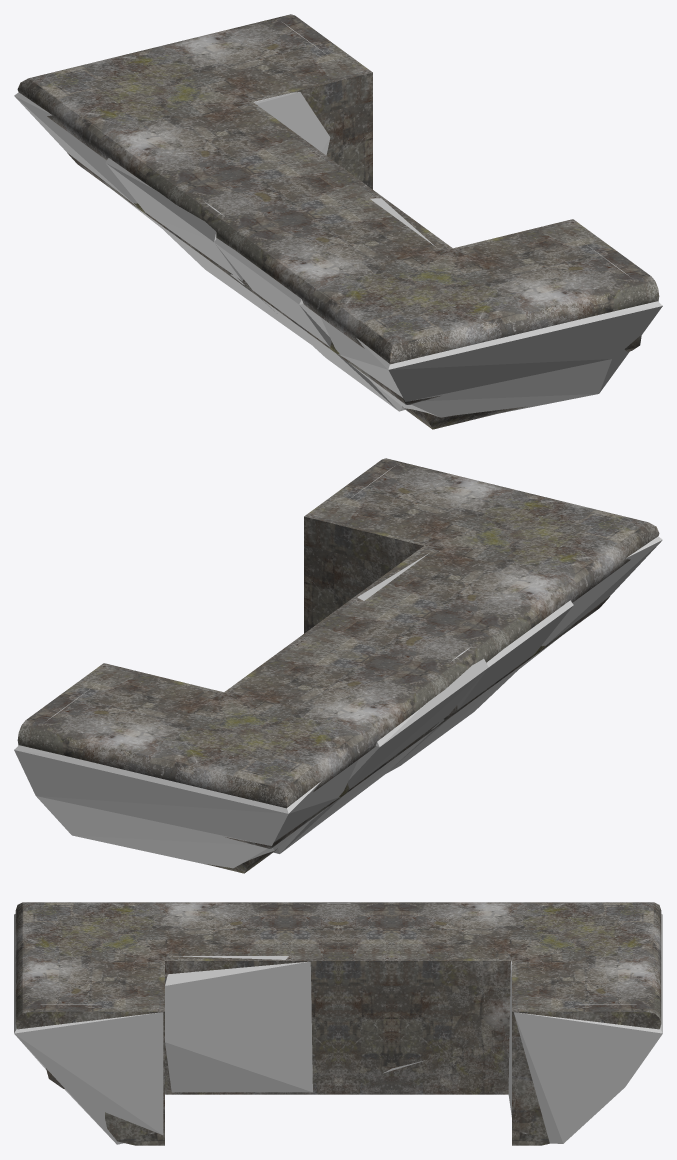
File: SM_CastleTower_Floor_Seam_A_05.fbx
The picture shows the model from 3 angles, top to bottom: view 1: azimuth 30°, elevation 25°; view 2: azimuth 150°, elevation 25°; view 3: azimuth 270°, elevation 25°; orthographic projection. The views are drawn at different scales.
Visible parts, largest first — view 1: SM_CastleTower_Floor_Seam_A_05, SM_CastleTower_Floor_Seam_A_05_ConvexHulls; view 2: SM_CastleTower_Floor_Seam_A_05, SM_CastleTower_Floor_Seam_A_05_ConvexHulls; view 3: SM_CastleTower_Floor_Seam_A_05, SM_CastleTower_Floor_Seam_A_05_ConvexHulls.
Boxes of the visible parts, x1,y1,x2,y2 form: SM_CastleTower_Floor_Seam_A_05: (17,14,659,429); SM_CastleTower_Floor_Seam_A_05_ConvexHulls: (14,22,662,417); SM_CastleTower_Floor_Seam_A_05: (17,458,659,873); SM_CastleTower_Floor_Seam_A_05_ConvexHulls: (14,466,662,868); SM_CastleTower_Floor_Seam_A_05: (15,902,661,1145); SM_CastleTower_Floor_Seam_A_05_ConvexHulls: (14,903,662,1144).
Bounding box in the file's own units: 229 × 540 × 123.
